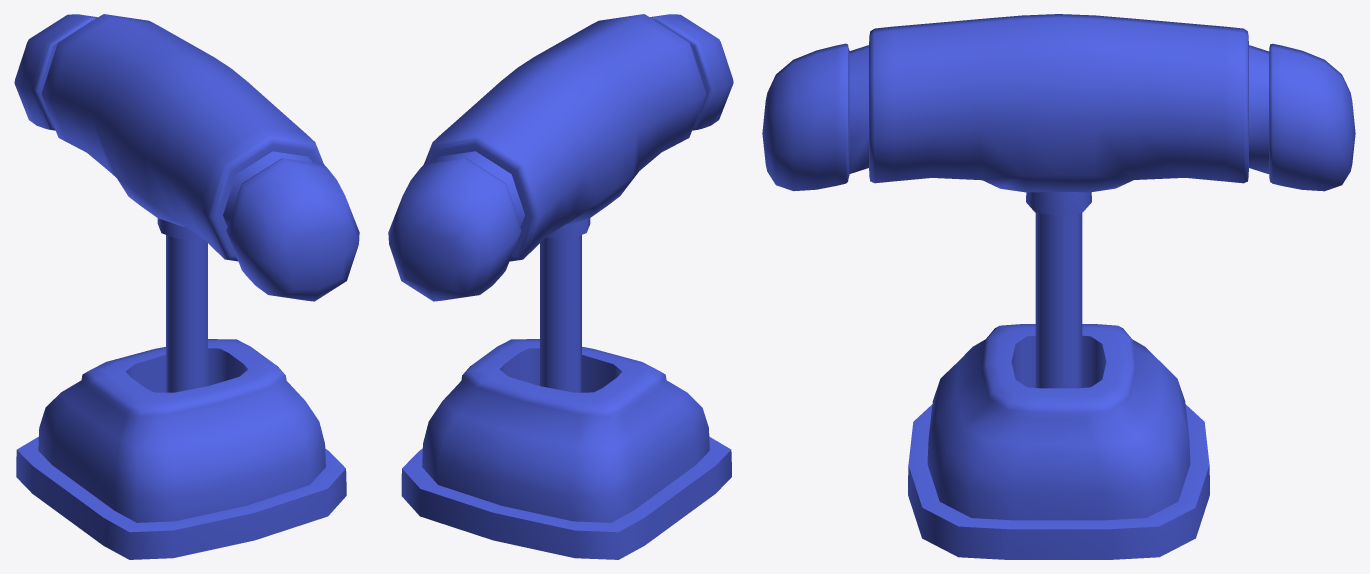
Rendered from gearshift.fbx.
The picture shows the model from 3 angles, left to right: view 1: azimuth 30°, elevation 25°; view 2: azimuth 150°, elevation 25°; view 3: azimuth 270°, elevation 25°; orthographic projection. The views are drawn at different scales.
Parts seen in each view (by area): view 1: Cube, Cube.002; view 2: Cube, Cube.002; view 3: Cube, Cube.002.
Boxes of the visible parts, x1,y1,x2,y2 form: Cube: (14, 14, 359, 392); Cube.002: (16, 339, 346, 559); Cube: (388, 14, 733, 392); Cube.002: (401, 339, 731, 559); Cube: (762, 14, 1355, 388); Cube.002: (908, 324, 1209, 559).
Bounding box in the file's own units: 22.41 × 38.62 × 43.49.
